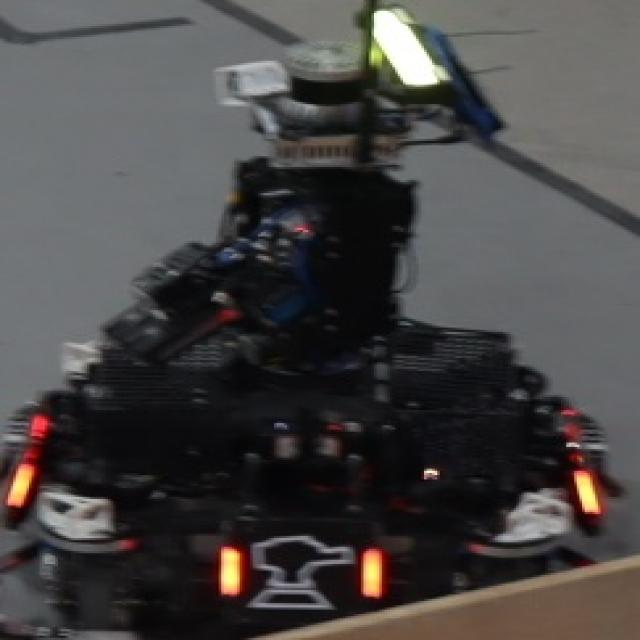Rs: (216, 529, 384, 612)
